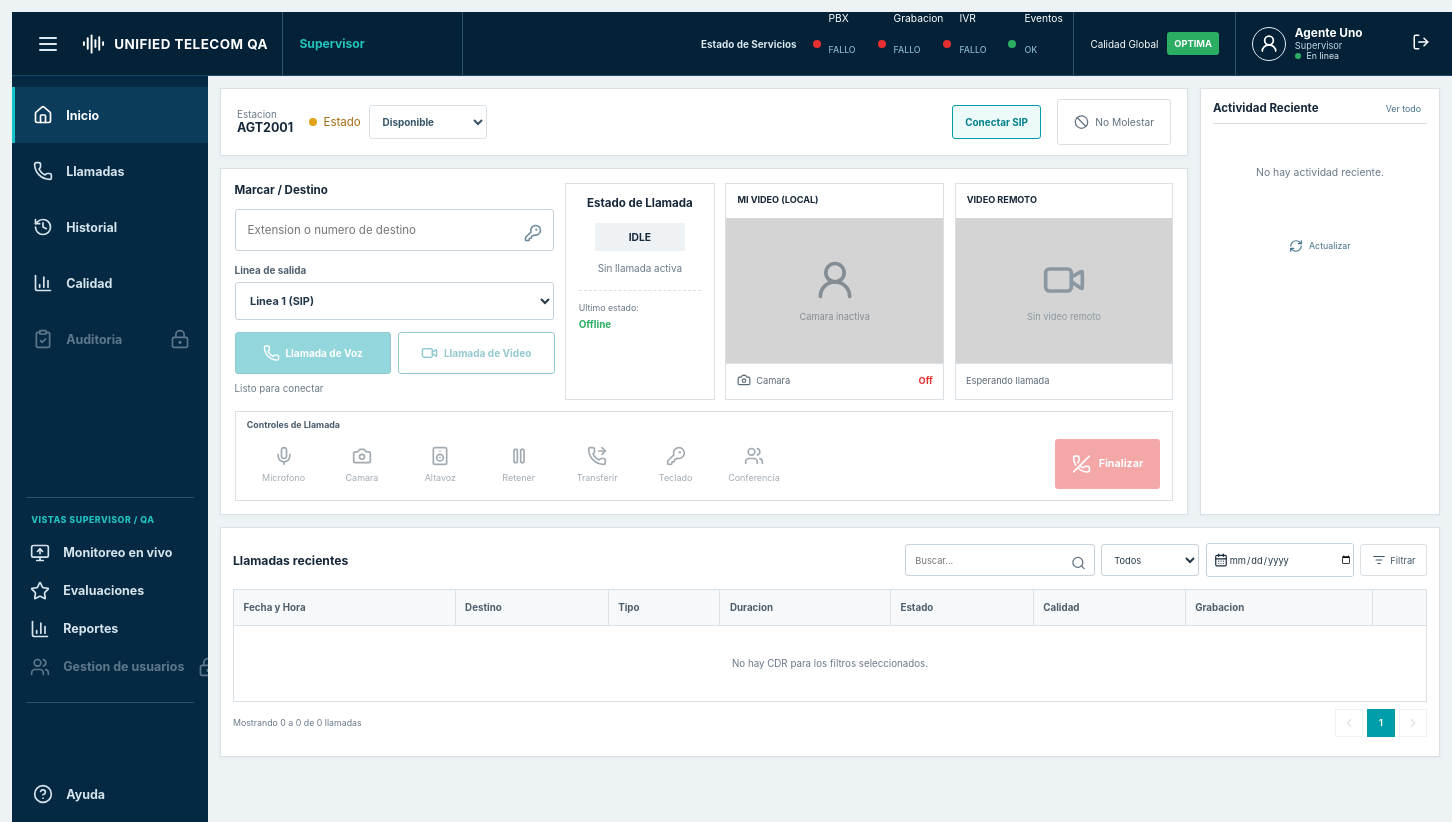
Test: Dashboard › muestra estados degradados y tablas vacias sin romper la consola
Expected: the text "No hay actividad reciente." is shown, top-left (1256, 166), bottom-right (1384, 179)
Expected: the text "No hay CDR para los filtros seleccionados." is shown, top-left (234, 625), bottom-right (1426, 701)
Click the button "Reportes".
click(120, 629)  # box top-left (26, 610), bottom-right (214, 648)
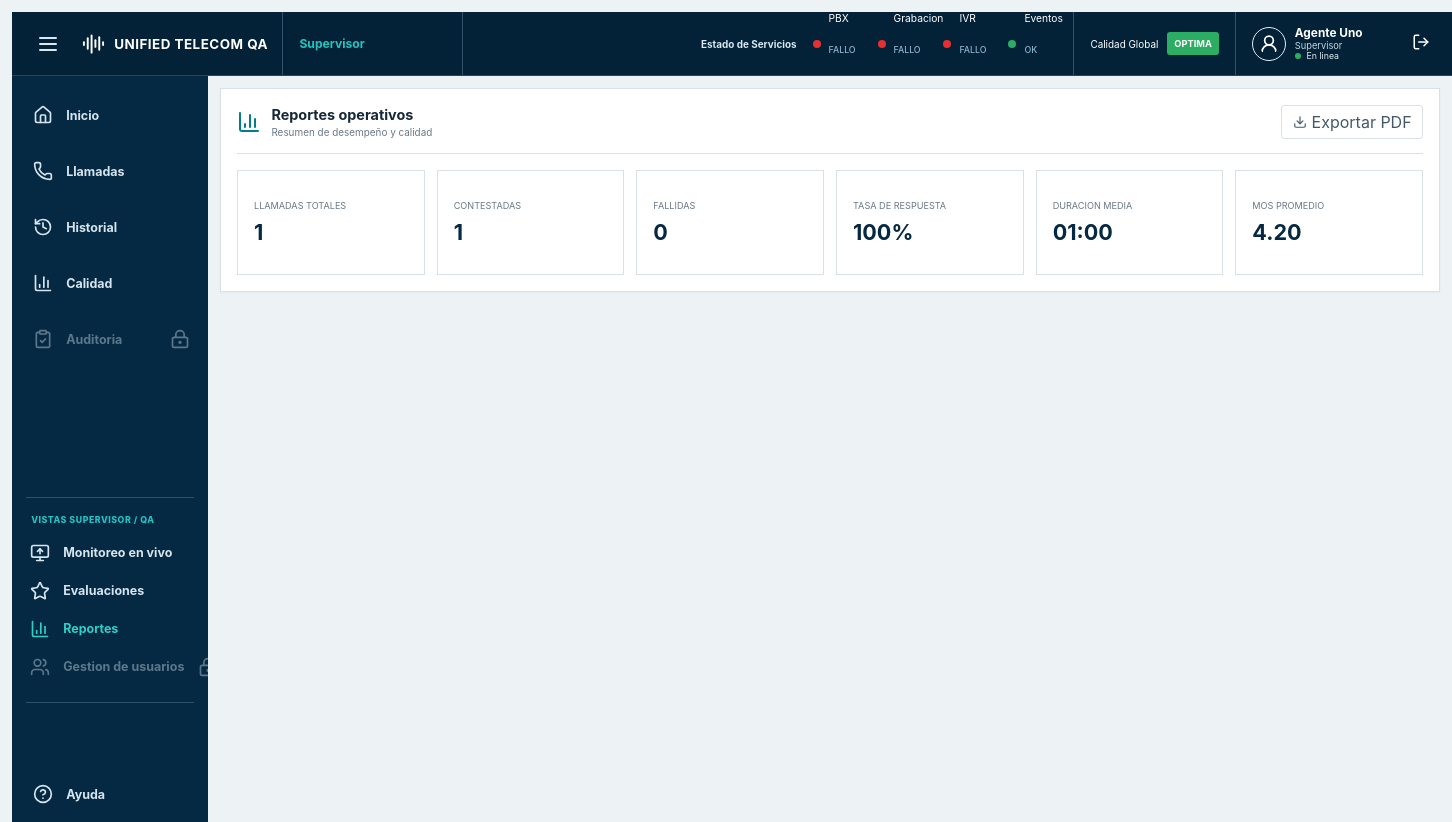
Result: the text "100%" is shown at top-left (853, 219), bottom-right (913, 245)
